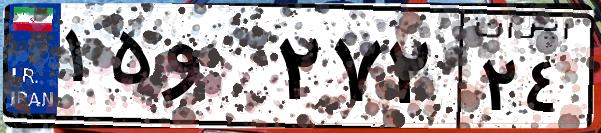1: (57, 26, 110, 100)
2: (270, 28, 330, 110), (385, 28, 445, 110), (475, 38, 525, 113)
4: (525, 38, 570, 115)
5: (110, 28, 158, 98)
7: (330, 28, 385, 110)
و: (158, 20, 270, 120)
